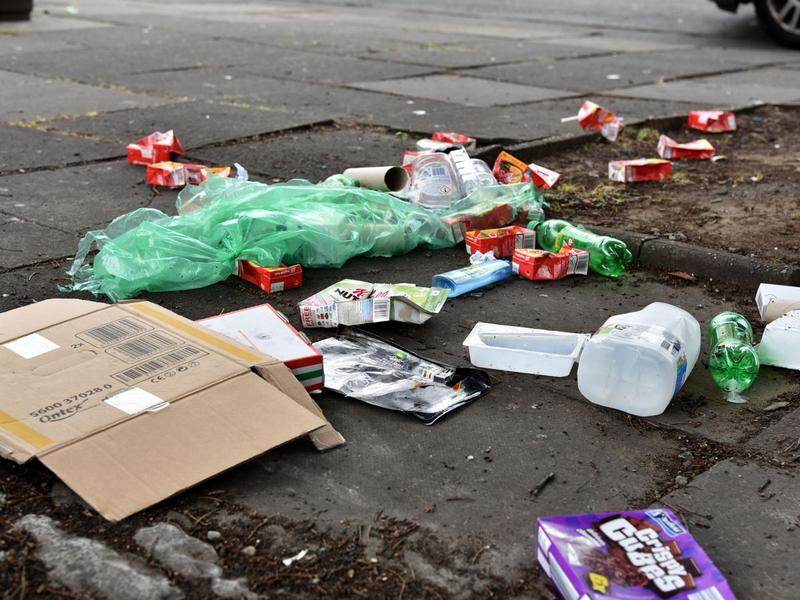bottle: (527, 212, 635, 281), (703, 299, 764, 394)
cardboard: (2, 295, 349, 524), (528, 493, 746, 600), (293, 275, 449, 333), (119, 124, 189, 166), (464, 224, 537, 257), (606, 154, 676, 188), (679, 100, 739, 136)
paper: (317, 329, 499, 426)
plastic: (69, 177, 454, 284)
